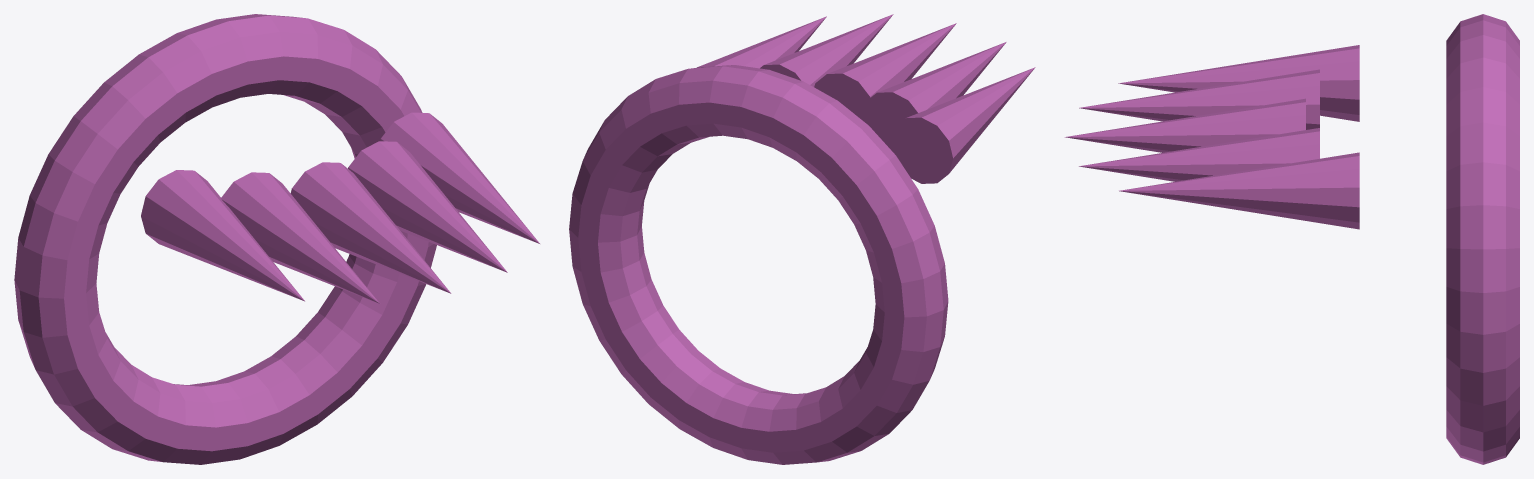
Rendered from luxury_181.glb.
The picture shows the model from 3 angles, left to right: view 1: azimuth 30°, elevation 25°; view 2: azimuth 150°, elevation 25°; view 3: azimuth 270°, elevation 25°; orthographic projection. The views are drawn at different scales.
Parts seen in each view (by area): view 1: world; view 2: world; view 3: world.
Part boxes in pixels (bbox=[...]): world: bbox=[14, 14, 539, 464]; world: bbox=[569, 14, 1035, 464]; world: bbox=[1064, 14, 1519, 464].
Bounding box in the file's own units: 1.4 × 1.4 × 1.41.
